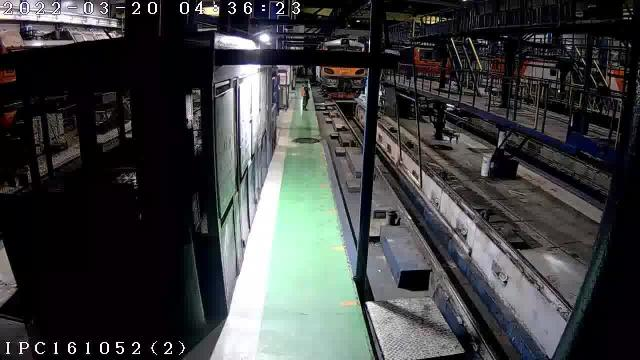person: (302, 84, 309, 110)
train: (316, 66, 366, 98)
